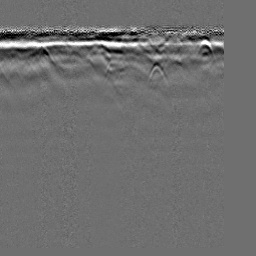cavity: (194, 34, 215, 59)
